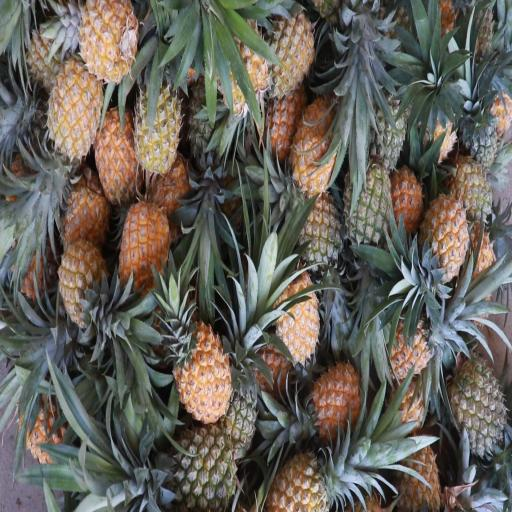------------------------------: (290, 170, 340, 288), (452, 140, 492, 225)
Pineapple - v8 v1: (37, 58, 103, 178), (284, 91, 343, 212), (166, 305, 229, 410), (299, 348, 361, 453), (130, 61, 186, 175), (49, 232, 106, 343), (262, 423, 331, 512), (112, 191, 170, 295), (413, 192, 471, 295), (379, 413, 439, 512), (92, 95, 143, 211), (369, 301, 433, 389), (74, 0, 138, 87), (274, 252, 320, 371), (261, 17, 313, 95)
